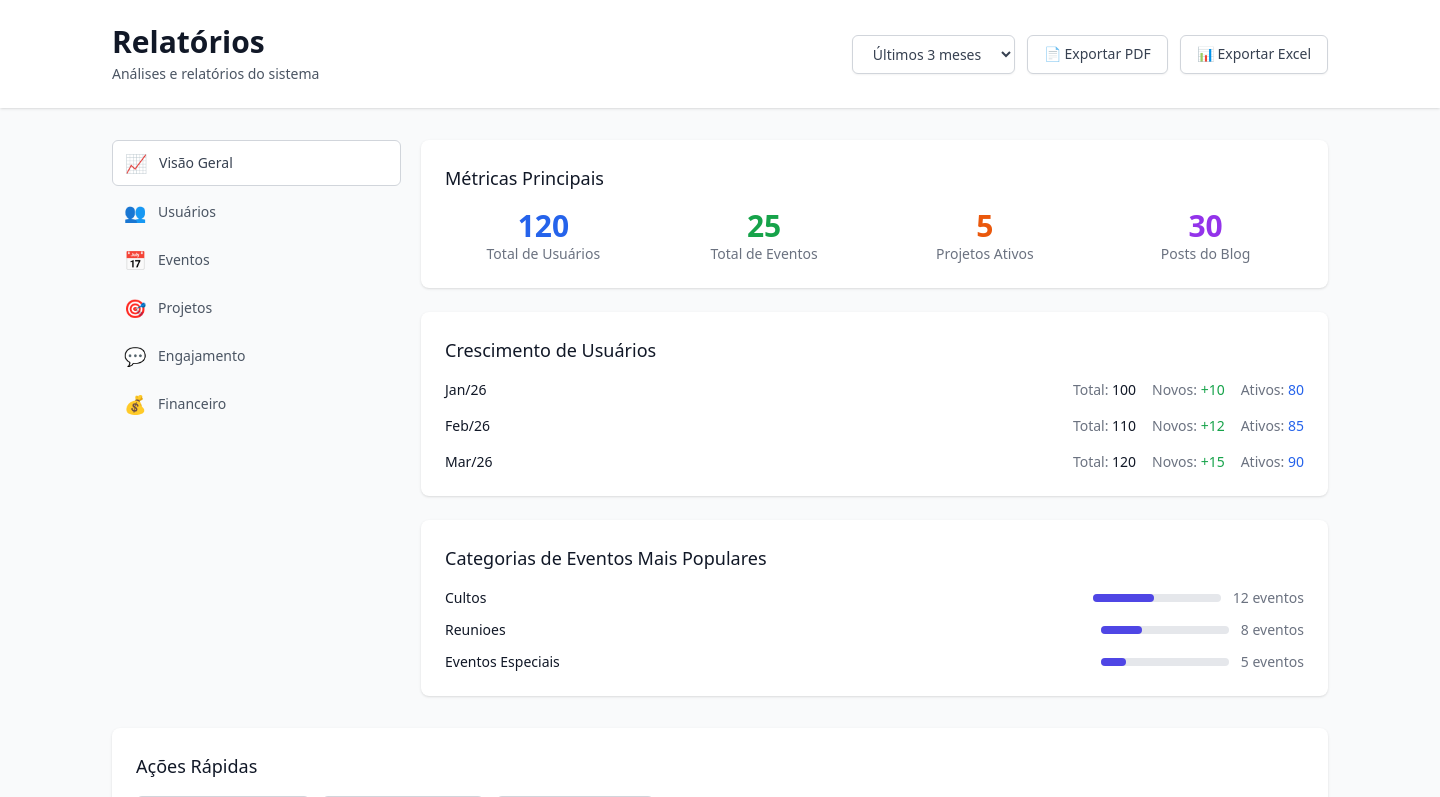
Test: AdminReportsPage › Report Type Navigation › should switch to Projects report
Click the button "🎯 Projetos": [185, 308] box [112, 286, 401, 330]
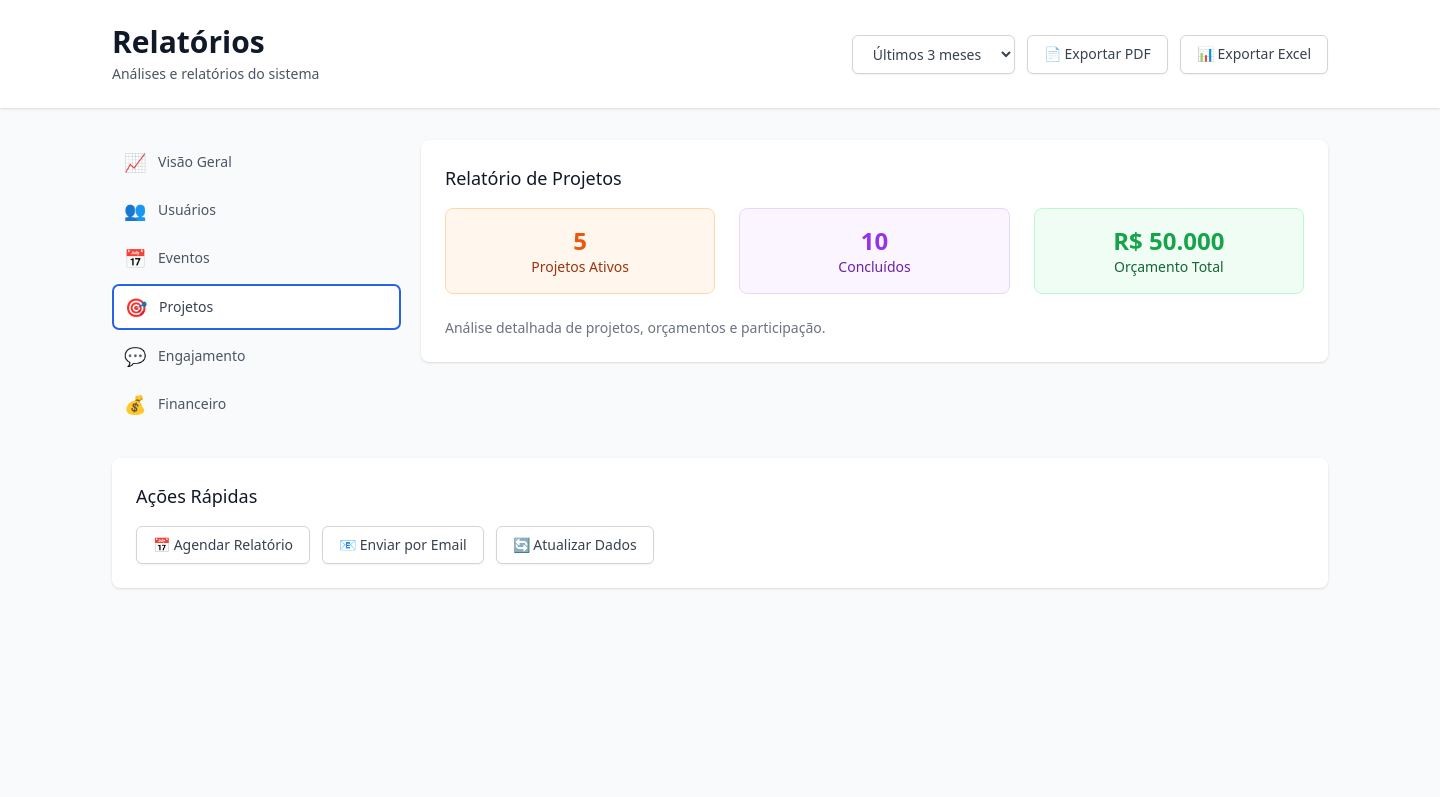
Expected: the heading "Relatório de Projetos" is shown, [445, 166, 622, 190]
